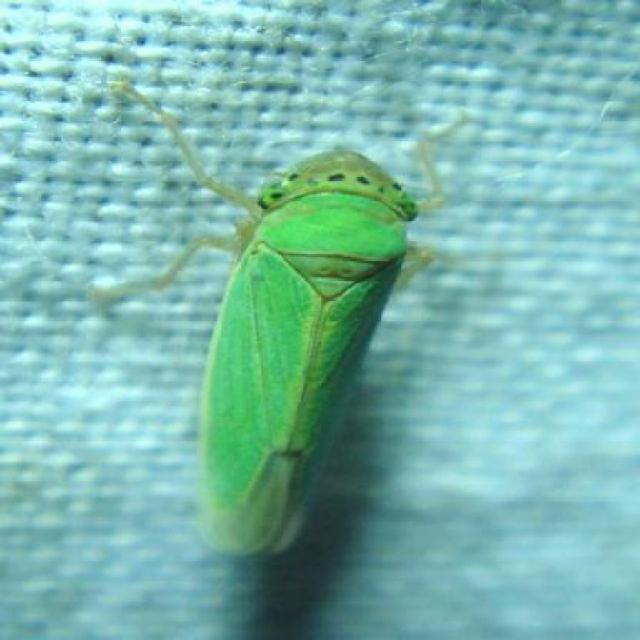green-leafhopper: (172, 142, 437, 560)
